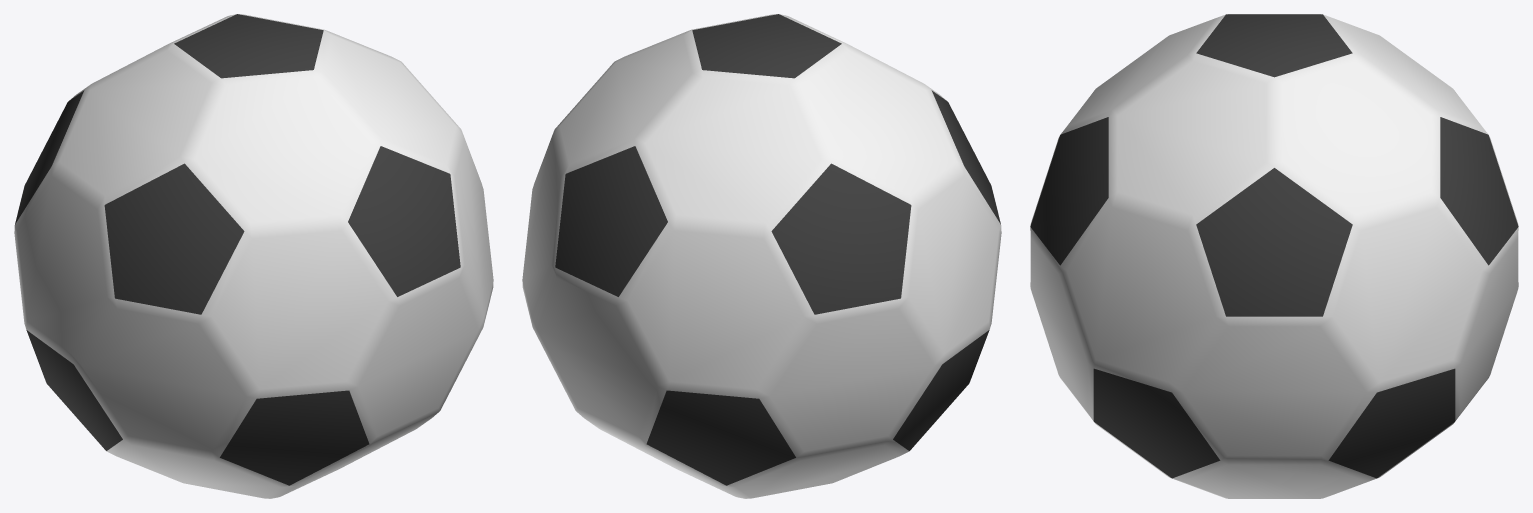
File: Football.fbx
3 renders of one model, left to right at view 1: azimuth 30°, elevation 25°; view 2: azimuth 150°, elevation 25°; view 3: azimuth 270°, elevation 25°, orthographic. The views are drawn at different scales.
Visible parts, largest first — view 1: Football; view 2: Football; view 3: Football.
Boxes of the visible parts, bbox=[...] form: Football: bbox=[14, 14, 493, 498]; Football: bbox=[522, 14, 1001, 498]; Football: bbox=[1030, 14, 1518, 498].
Bounding box in the file's own units: 39.91 × 38.99 × 40.32.
